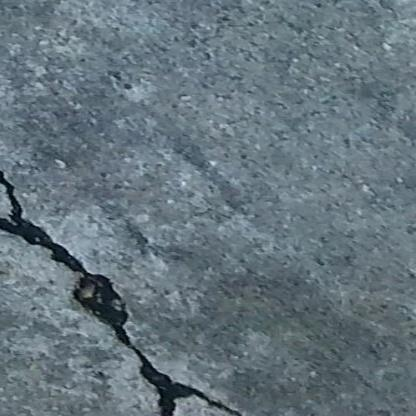Cracks: (0, 113, 272, 416)
